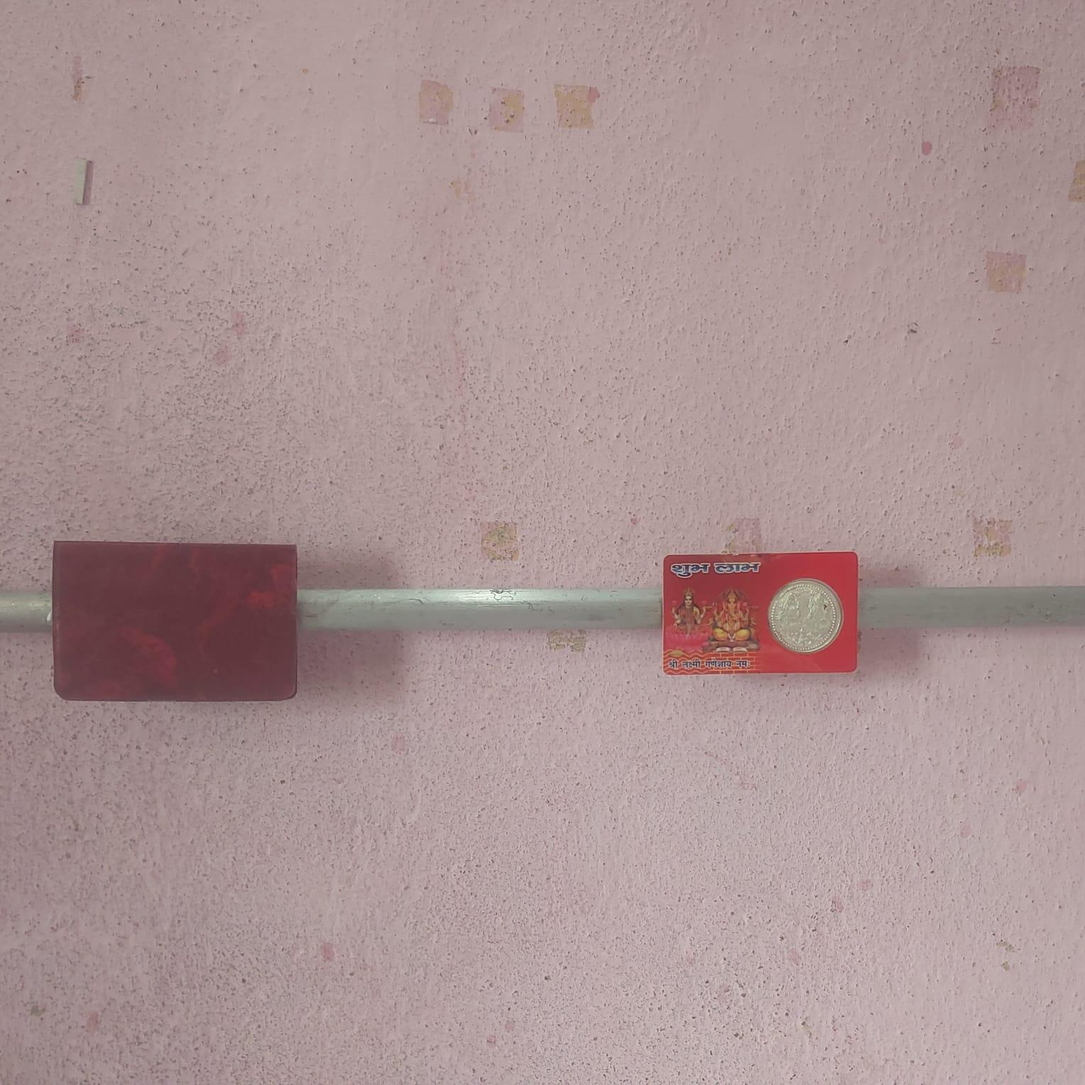blessing_card: (661, 550, 864, 677)
wallet: (52, 535, 303, 701)
